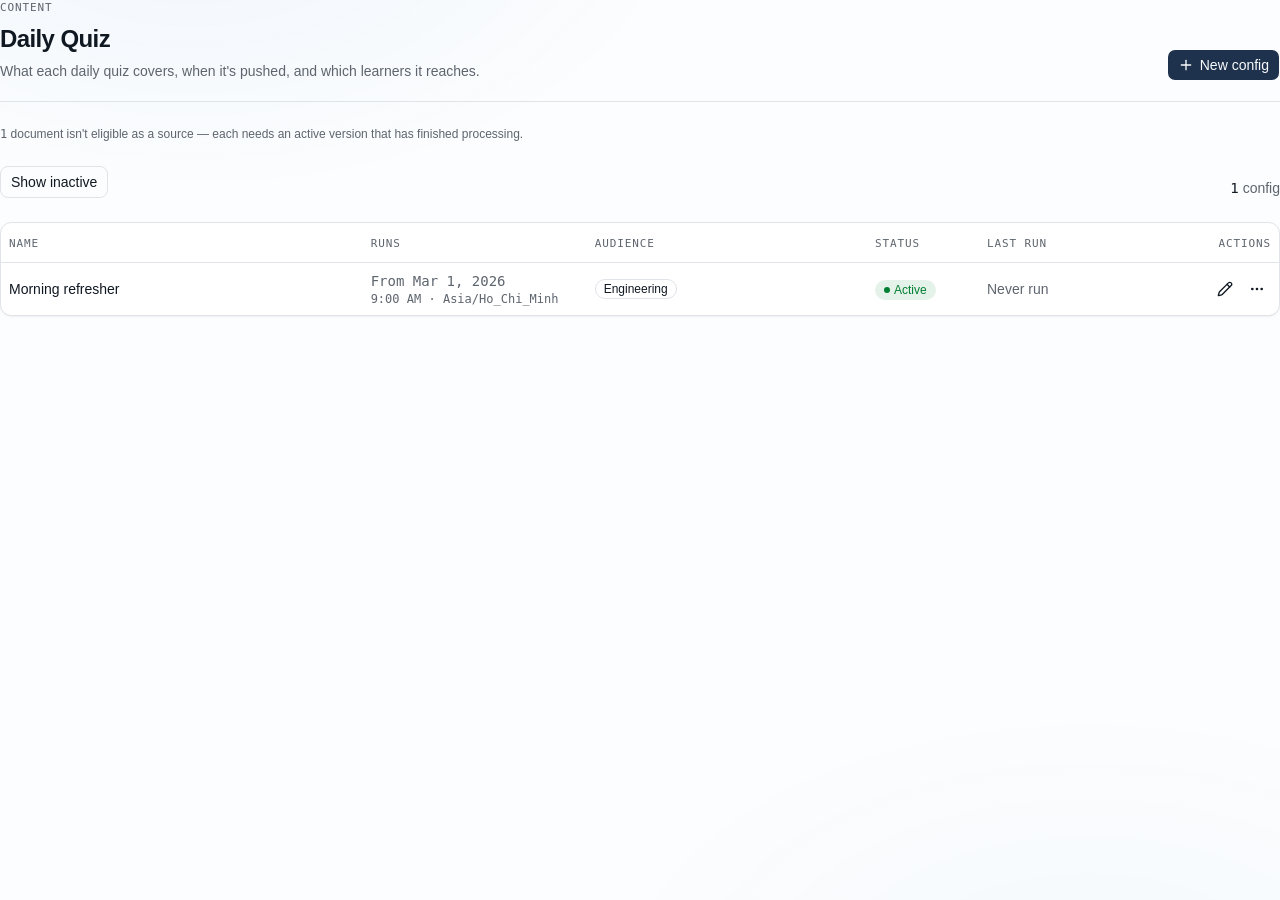
Test case: DailyQuizConfigsPage › keeps the config and shows the server's reason when a delete is blocked
Expected: the text "Morning refresher" is shown, [9, 281, 120, 297]
Click the button named "Actions for".
click(1257, 289)  # box [1243, 275, 1271, 303]
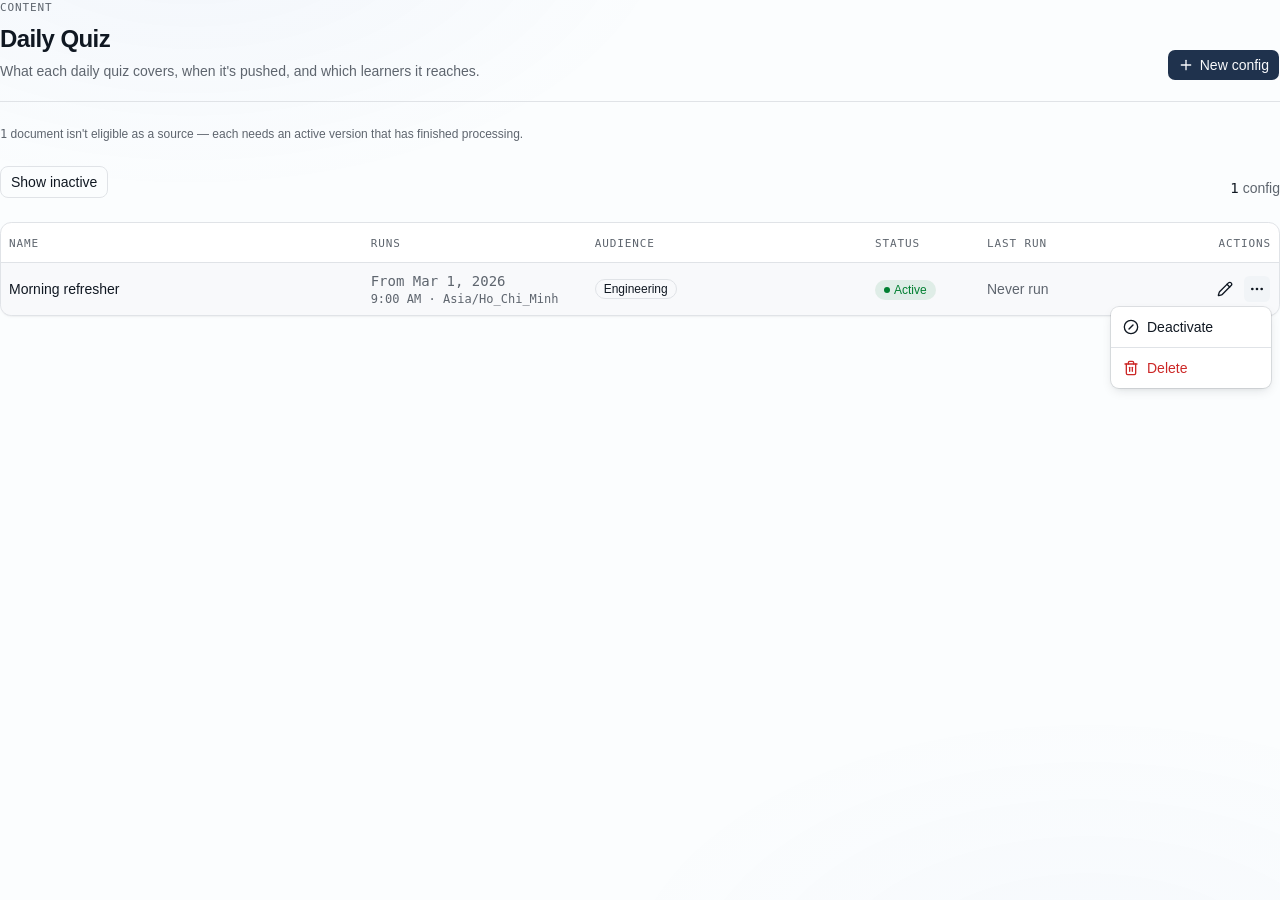
Click the menu item "Delete".
click(1155, 368)  # box [1123, 360, 1188, 376]
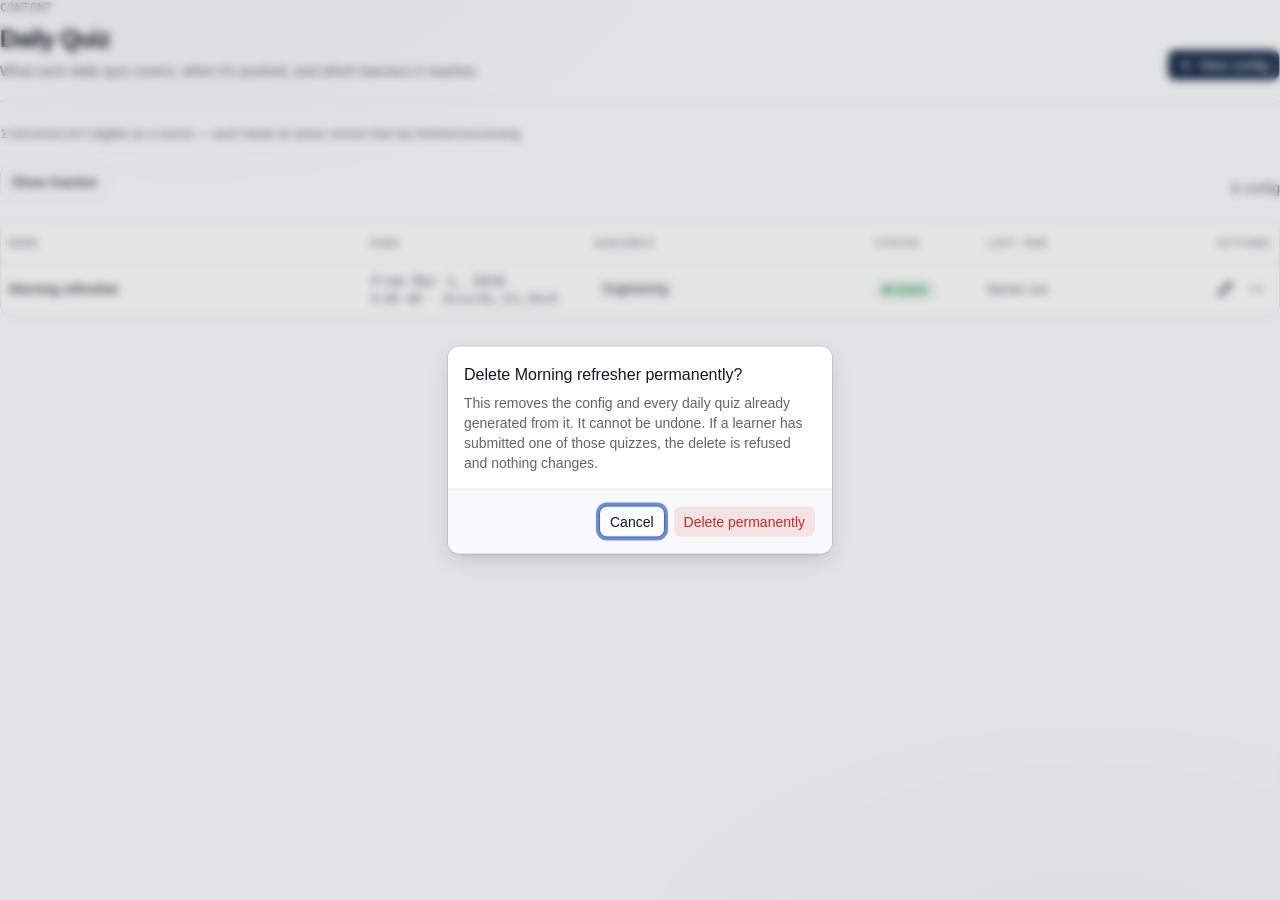
Click the button "Delete permanently".
click(744, 522)  # box [673, 506, 816, 538]
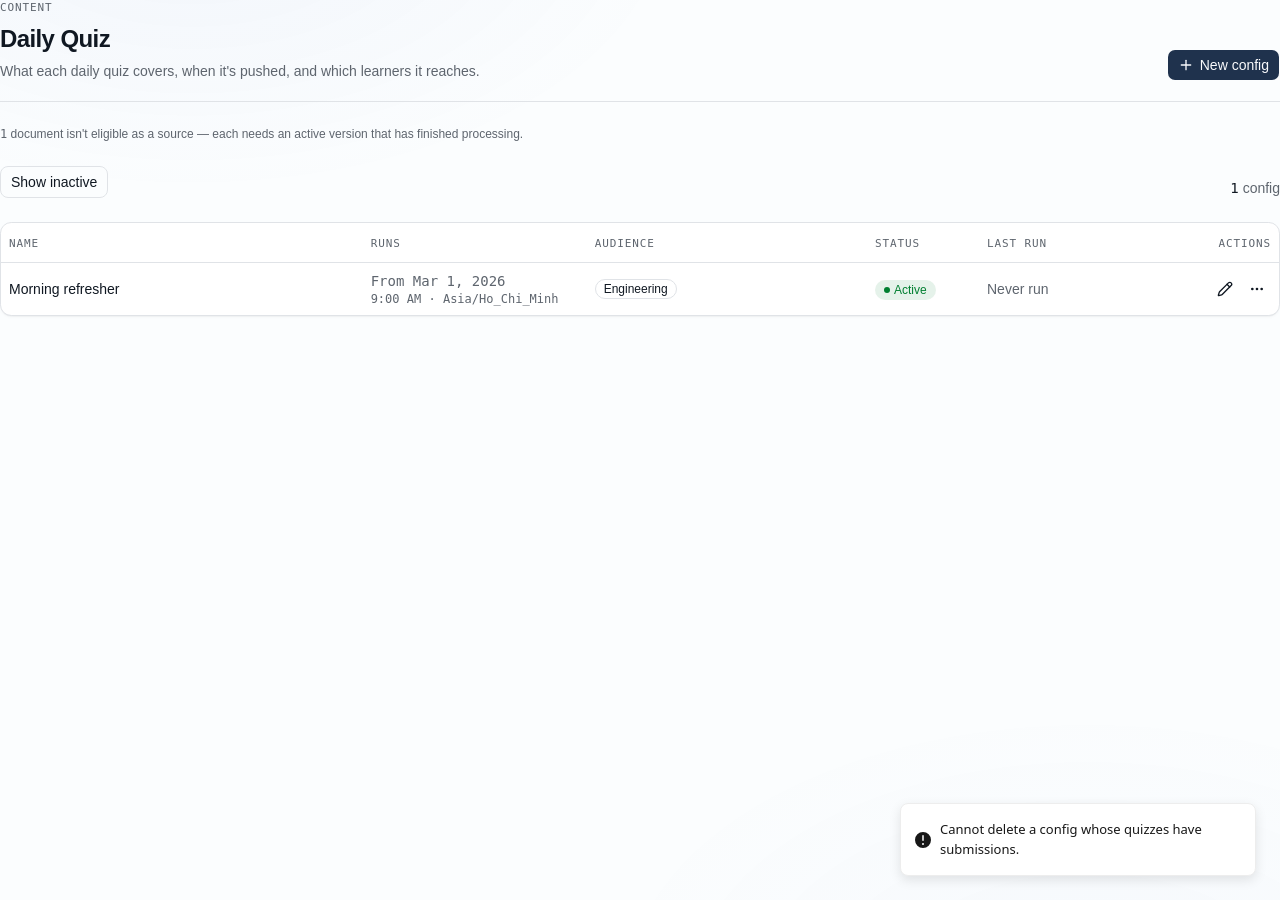
Expected: the text "Morning refresher" is shown, [9, 281, 120, 297]
Now the text "Cannot delete a config whose quizzes have submissions." is shown, box [940, 820, 1239, 859]
